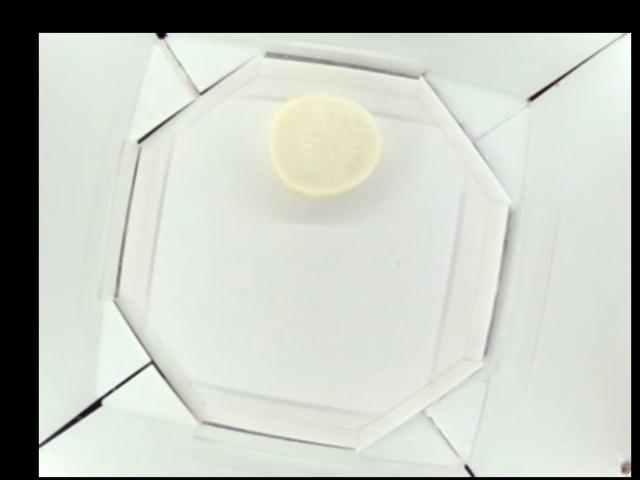Mooli: (270, 95, 381, 195)
